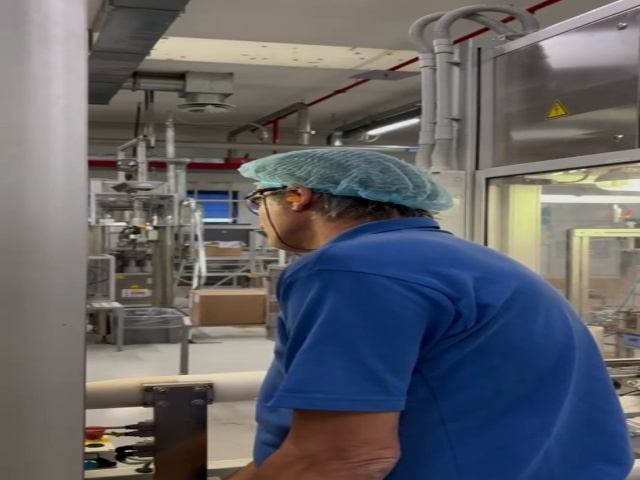Earplug: (279, 184, 313, 214)
Hairnet: (247, 146, 448, 207)
No_Helmet: (250, 149, 446, 206)
No_Vest: (282, 234, 633, 480)
Person: (238, 147, 633, 480)
Safety_Goggles: (245, 186, 289, 205)
